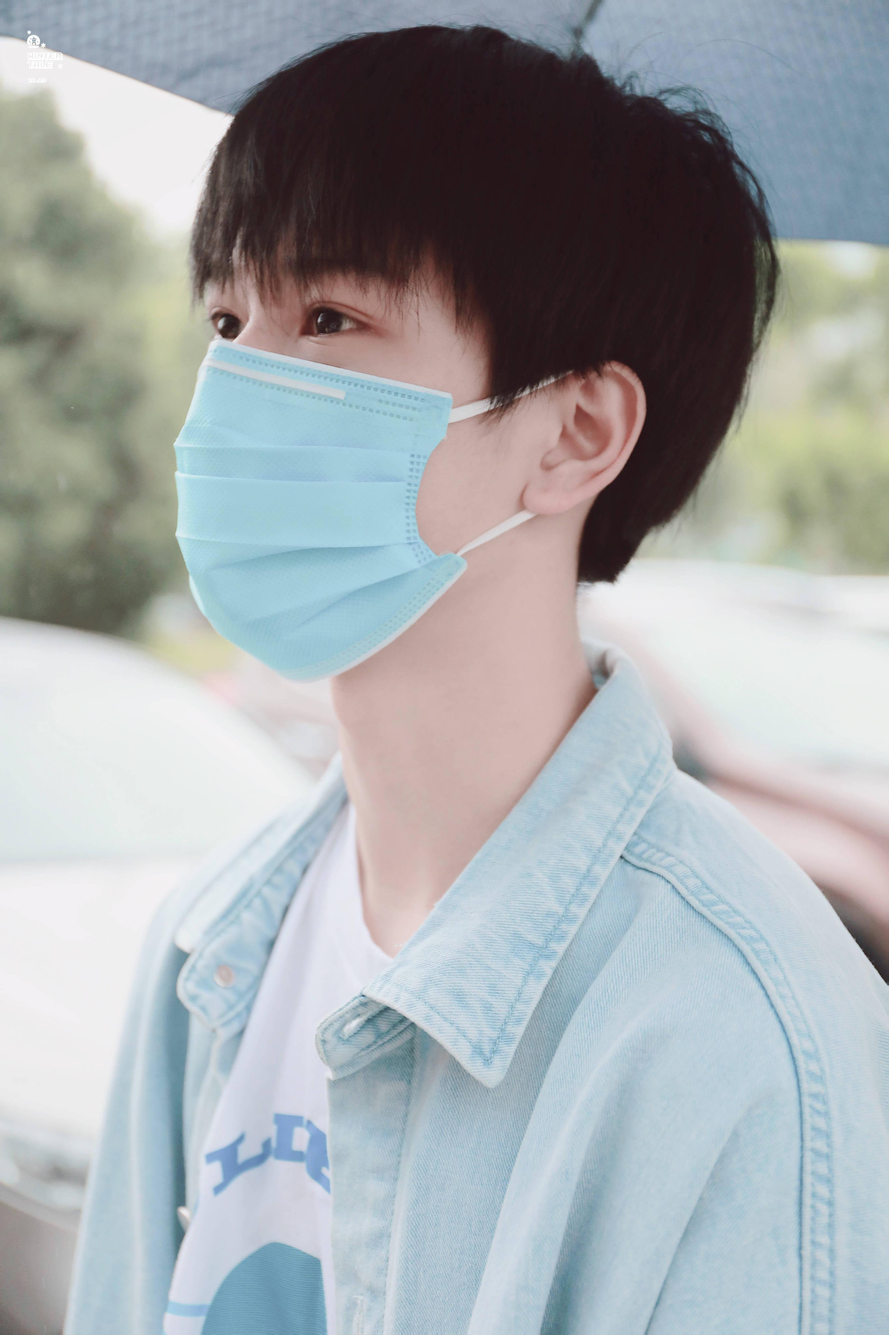OK: (176, 195, 500, 685)
